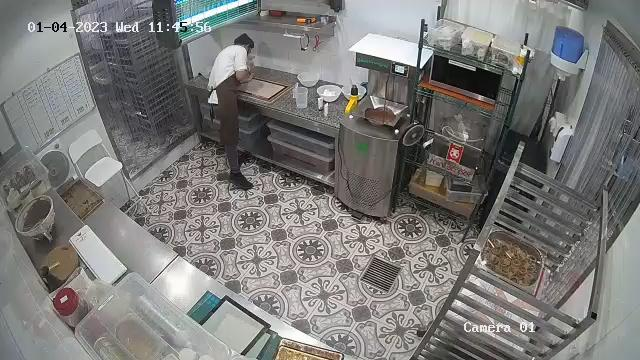apron: (207, 72, 239, 108)
